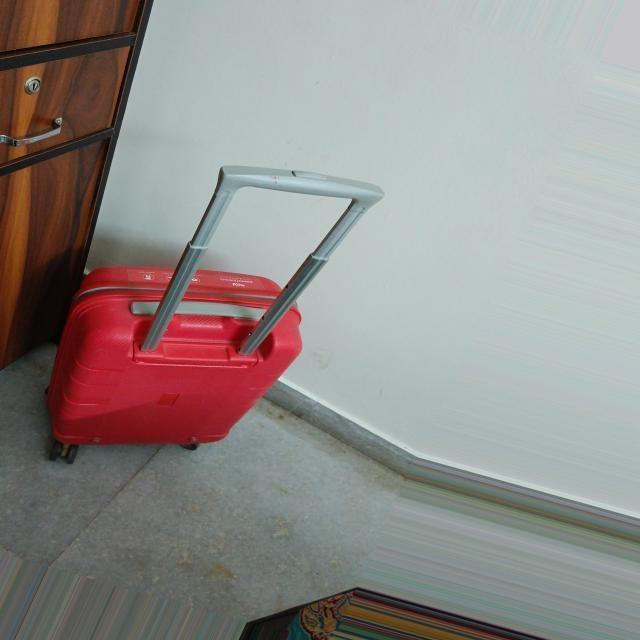Suitcase: (41, 142, 412, 484)
